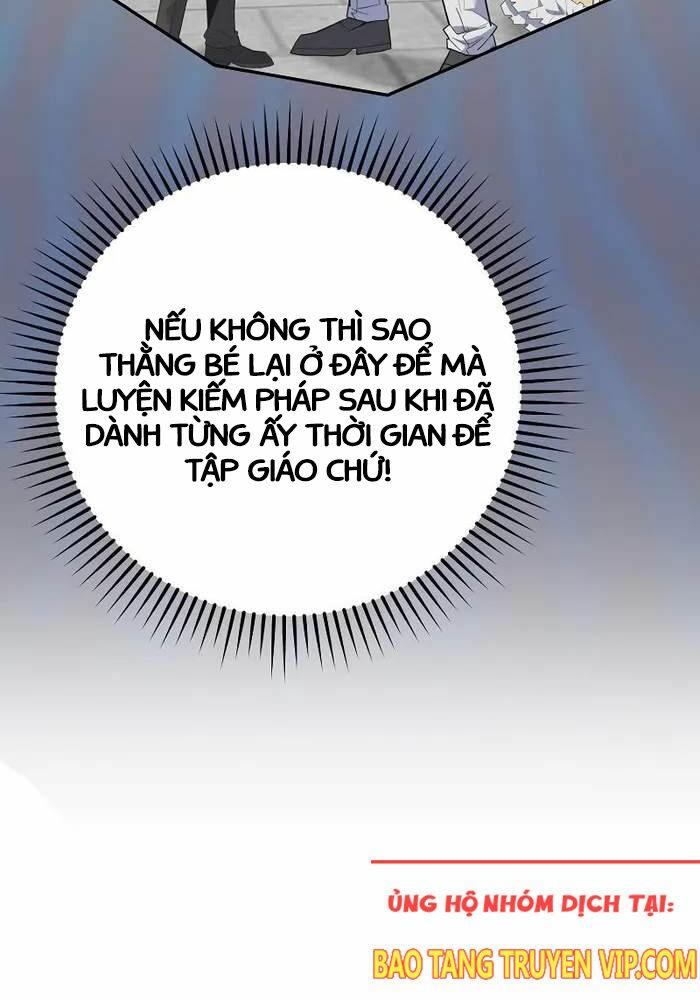quangcao: (370, 863, 700, 1000)
